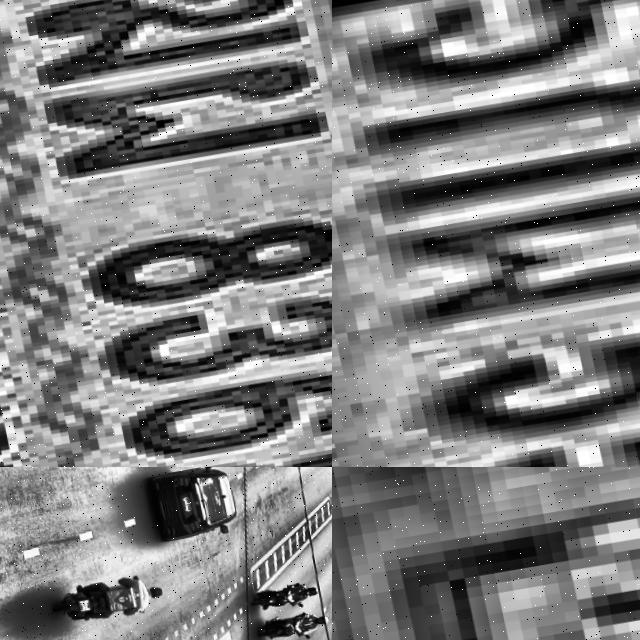license-plate: (0, 0, 332, 467), (332, 0, 640, 467), (408, 482, 640, 640), (177, 494, 191, 511), (74, 597, 88, 611)
